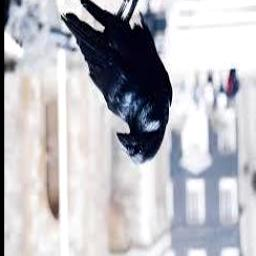Crow: (61, 0, 173, 166)
